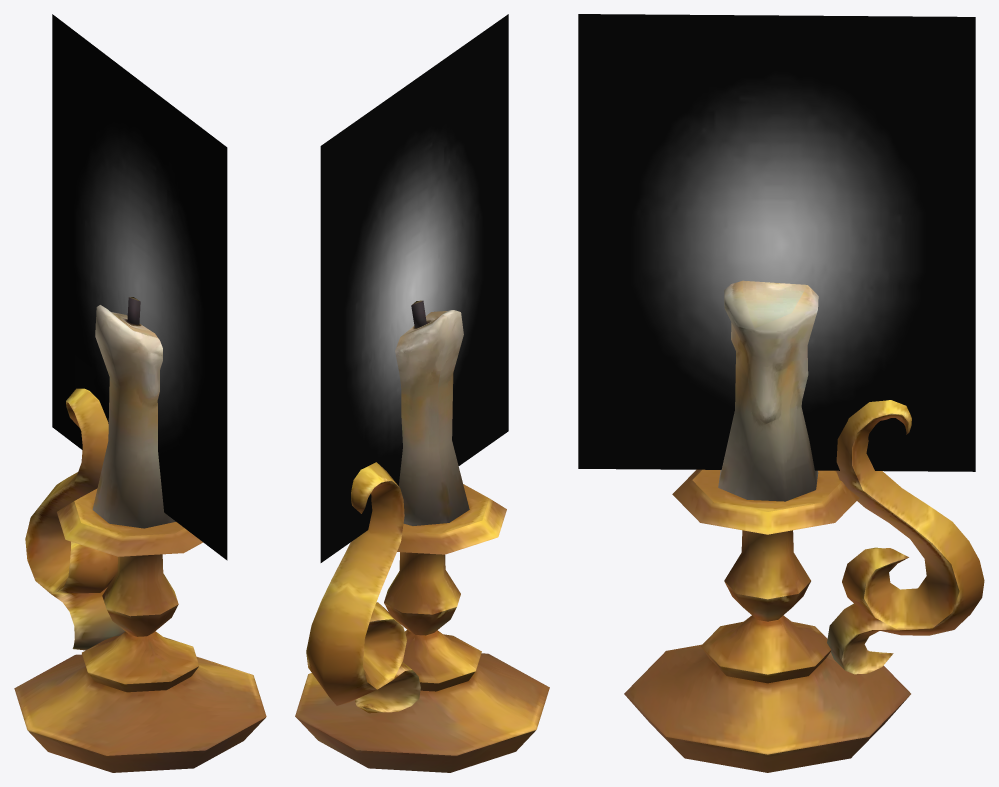
3 renders of one model, left to right at view 1: azimuth 30°, elevation 25°; view 2: azimuth 150°, elevation 25°; view 3: azimuth 270°, elevation 25°, orthographic. The views are drawn at different scales.
Size of the model in its own units: 0.5101 by 1.4 by 0.7203.
Materials: 2 (2 with a texture image).
